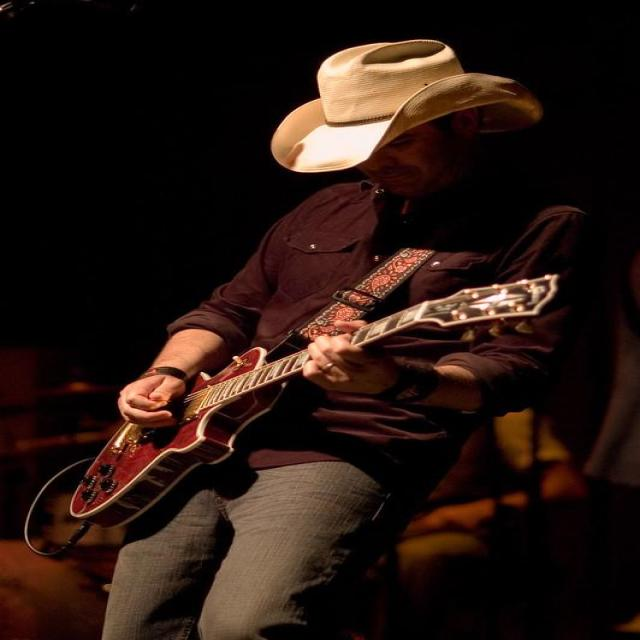guitar: (70, 348, 309, 527)
